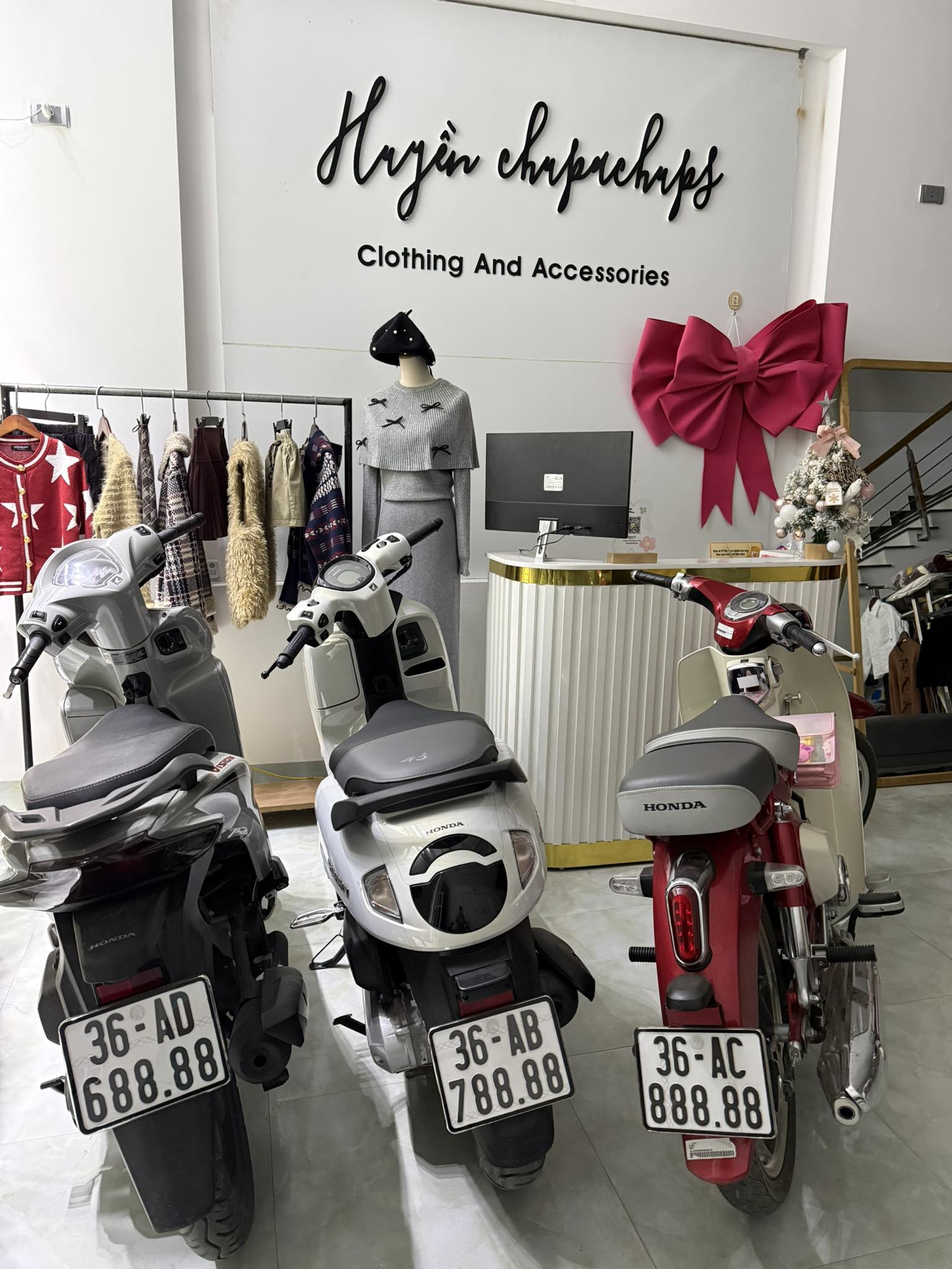bien_so: (54, 970, 248, 1143), (419, 994, 580, 1146), (629, 1019, 785, 1150)
